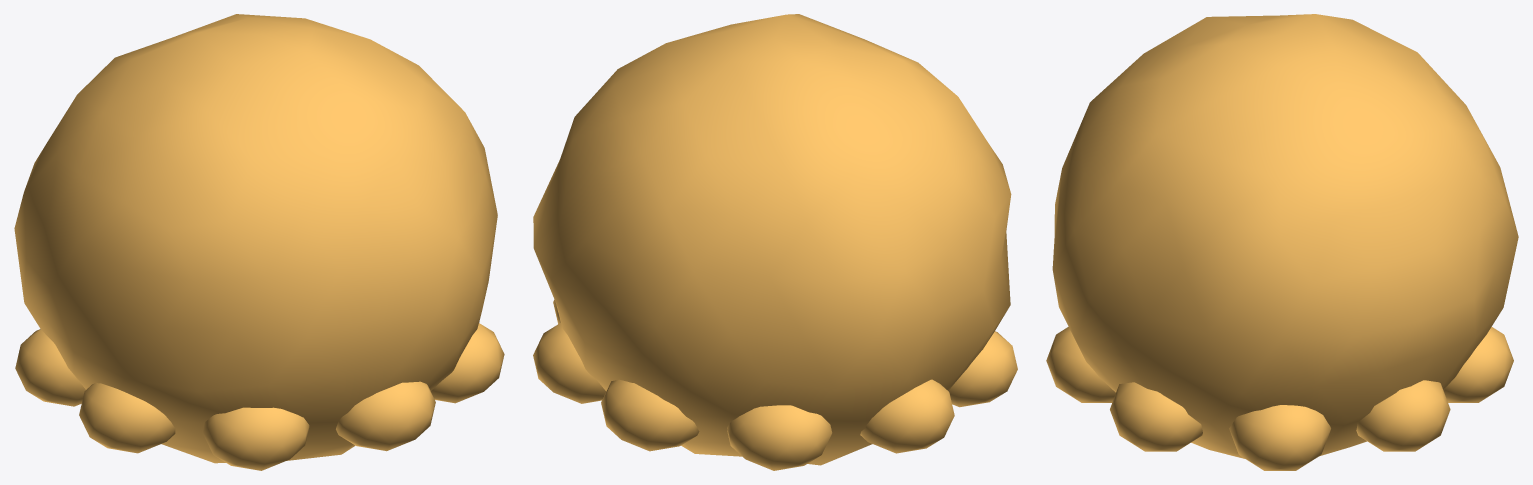
File: Mango_scoop.fbx
3 views of the same model, side by side, from view 1: azimuth 30°, elevation 25°; view 2: azimuth 150°, elevation 25°; view 3: azimuth 270°, elevation 25° (orthographic).
Parts seen in each view (by area): view 1: Toon_Mango_scoop Mango scoop.001, Toon_Mango_scoop Ruffled scoop edge.015, Toon_Mango_scoop Ruffled scoop edge.016, Toon_Mango_scoop Ruffled scoop edge.014, Toon_Mango_scoop Ruffled scoop edge.013, Toon_Mango_scoop Ruffled scoop edge.017; view 2: Toon_Mango_scoop Mango scoop.001, Toon_Mango_scoop Ruffled scoop edge.012, Toon_Mango_scoop Ruffled scoop edge.011, Toon_Mango_scoop Ruffled scoop edge.013, Toon_Mango_scoop Ruffled scoop edge.010, Toon_Mango_scoop Ruffled scoop edge.014; view 3: Toon_Mango_scoop Mango scoop.001, Toon_Mango_scoop Ruffled scoop edge.009, Toon_Mango_scoop Ruffled scoop edge.010, Toon_Mango_scoop Ruffled scoop edge.017, Toon_Mango_scoop Ruffled scoop edge.011, Toon_Mango_scoop Ruffled scoop edge.016.
Part boxes in pixels (left/top/right/bottom): Toon_Mango_scoop Mango scoop.001: left=14, top=14, right=497, bottom=463; Toon_Mango_scoop Ruffled scoop edge.015: left=202, top=407, right=309, bottom=470; Toon_Mango_scoop Ruffled scoop edge.016: left=336, top=381, right=435, bottom=451; Toon_Mango_scoop Ruffled scoop edge.014: left=79, top=382, right=175, bottom=453; Toon_Mango_scoop Ruffled scoop edge.013: left=15, top=329, right=85, bottom=406; Toon_Mango_scoop Ruffled scoop edge.017: left=431, top=323, right=504, bottom=403; Toon_Mango_scoop Mango scoop.001: left=533, top=14, right=1011, bottom=465; Toon_Mango_scoop Ruffled scoop edge.012: left=727, top=405, right=832, bottom=470; Toon_Mango_scoop Ruffled scoop edge.011: left=601, top=379, right=699, bottom=451; Toon_Mango_scoop Ruffled scoop edge.013: left=860, top=379, right=954, bottom=453; Toon_Mango_scoop Ruffled scoop edge.010: left=533, top=323, right=606, bottom=403; Toon_Mango_scoop Ruffled scoop edge.014: left=948, top=331, right=1017, bottom=407; Toon_Mango_scoop Mango scoop.001: left=1052, top=14, right=1518, bottom=458; Toon_Mango_scoop Ruffled scoop edge.009: left=1229, top=405, right=1330, bottom=470; Toon_Mango_scoop Ruffled scoop edge.010: left=1356, top=380, right=1450, bottom=451; Toon_Mango_scoop Ruffled scoop edge.017: left=1110, top=382, right=1202, bottom=451; Toon_Mango_scoop Ruffled scoop edge.011: left=1443, top=327, right=1513, bottom=402; Toon_Mango_scoop Ruffled scoop edge.016: left=1046, top=327, right=1115, bottom=402.
Size of the model in its own units: 10.56 by 9.6 by 10.18.
